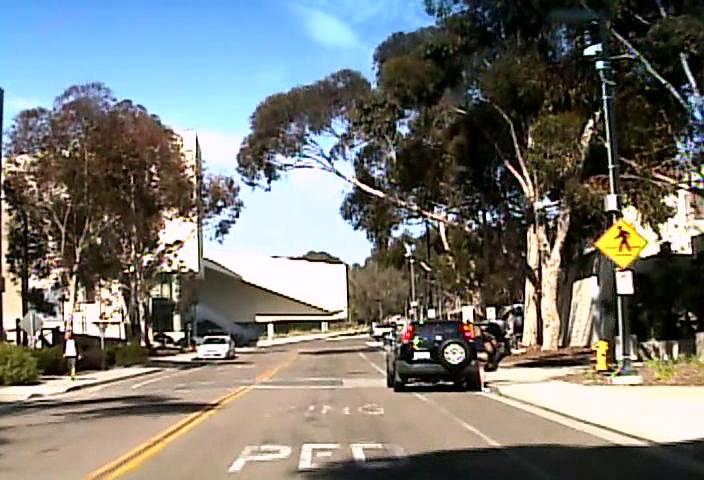pedestrianCrossing: (593, 218, 648, 269)
